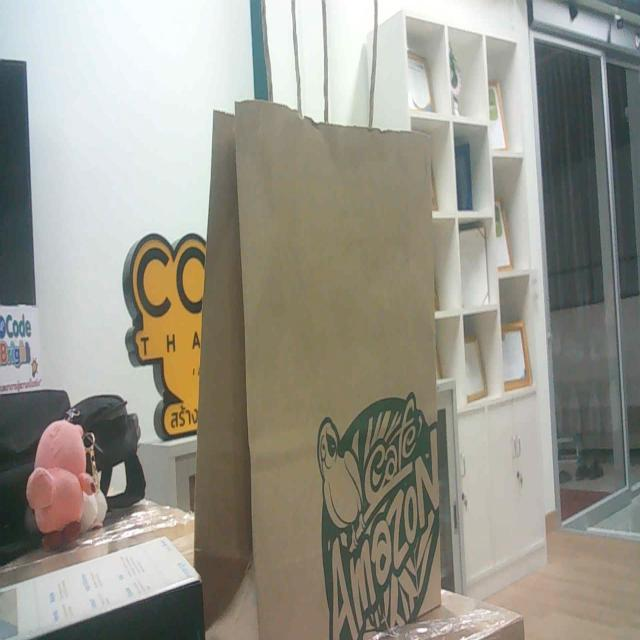bag: (185, 74, 480, 639)
